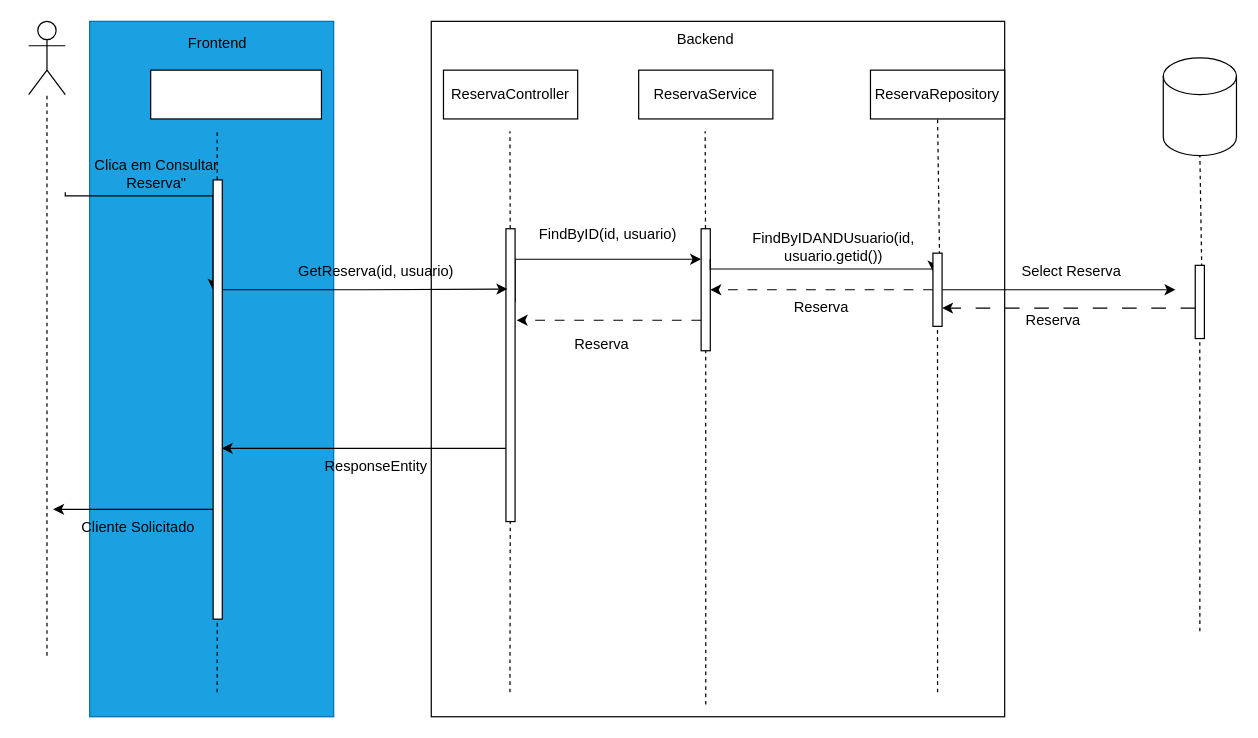
Image size: 1258x738. Some labels were removed from this diagram. The centre of each missing label's shape, as x and y in pixels:
Gerente: the point at 46,57
I_GerenciadeReservaaa: the point at 235,94
